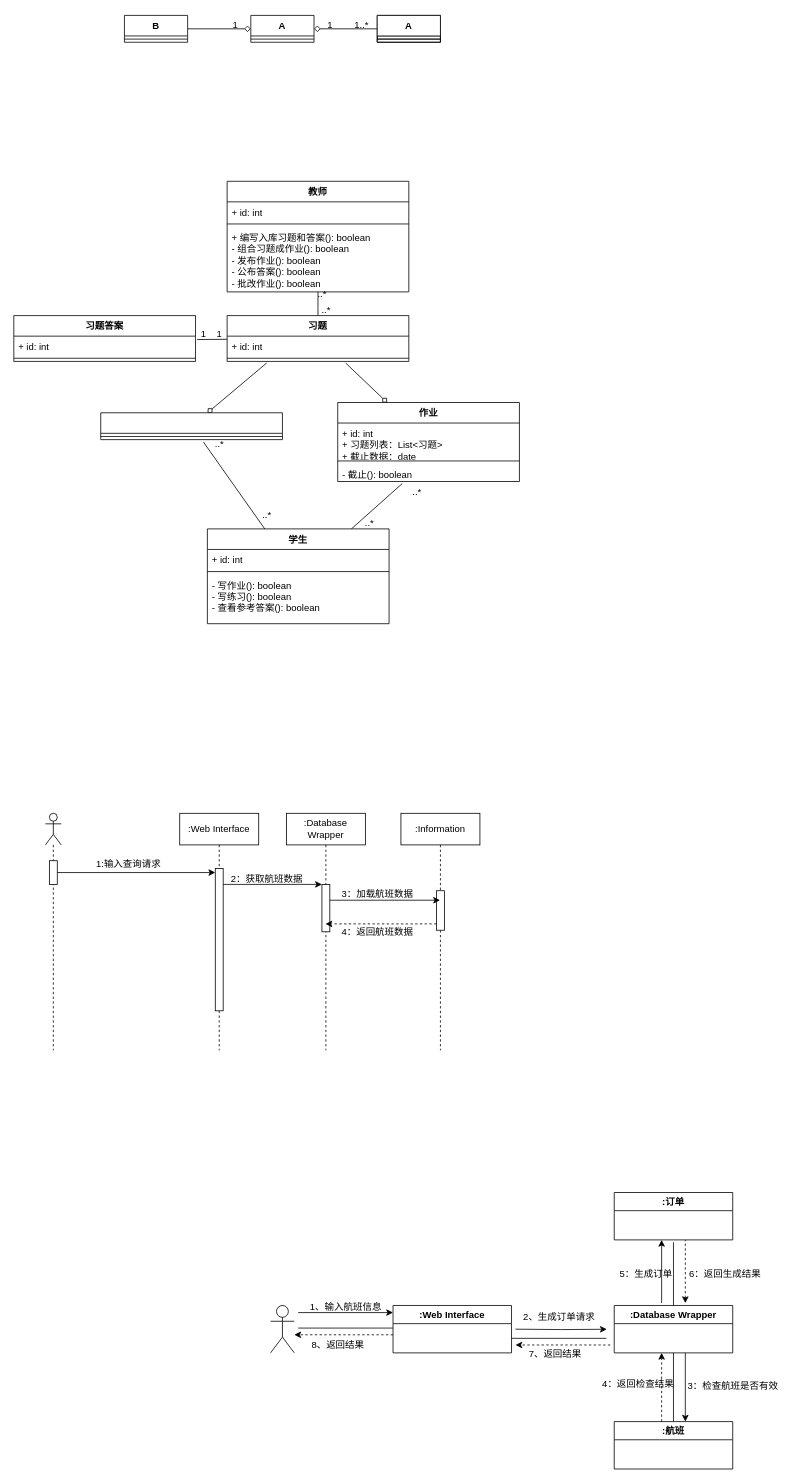
Image size: 802x1483. Some labels were removed from this diagram. The centre of each missing label's shape, as x and y in pixels:
"用户" goes at point (282, 1329).
"练习" goes at point (191, 426).
